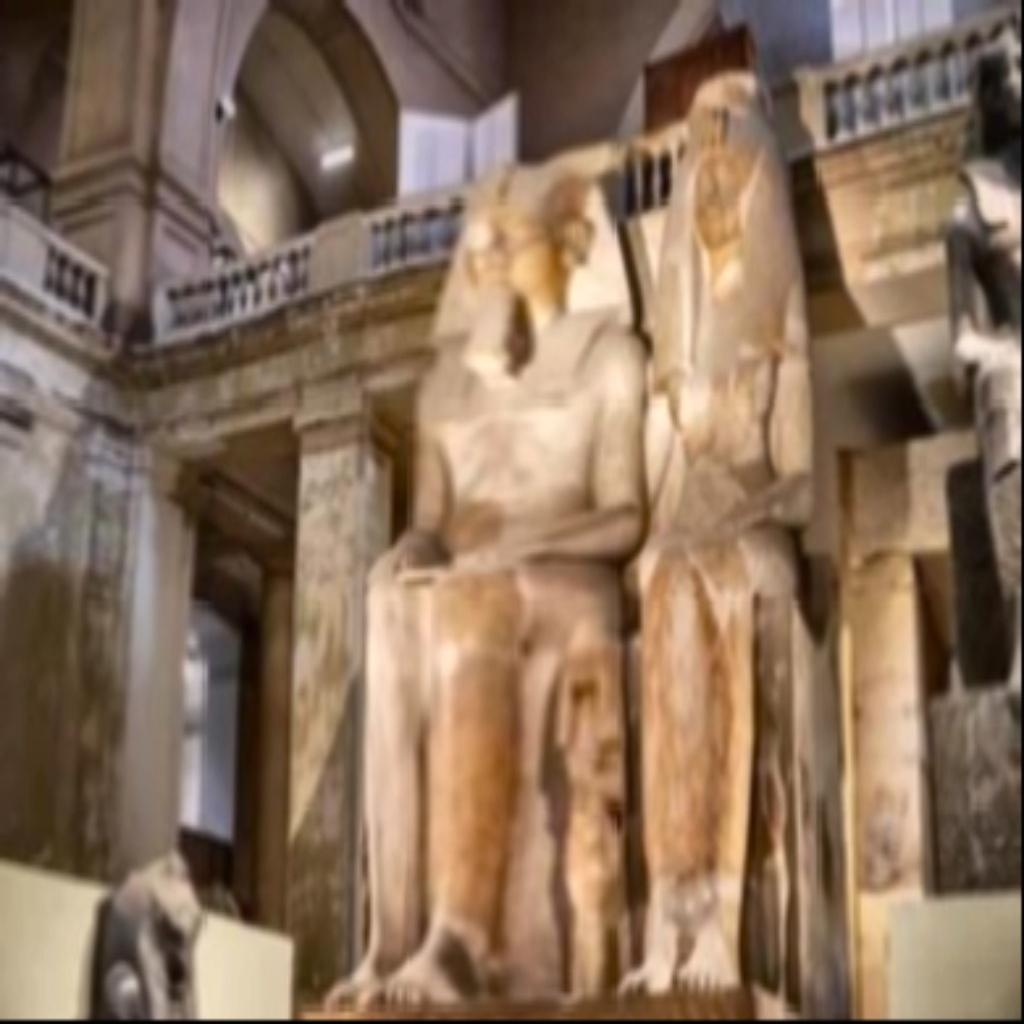Amenhotep III and Tiye: (326, 79, 822, 1012)
